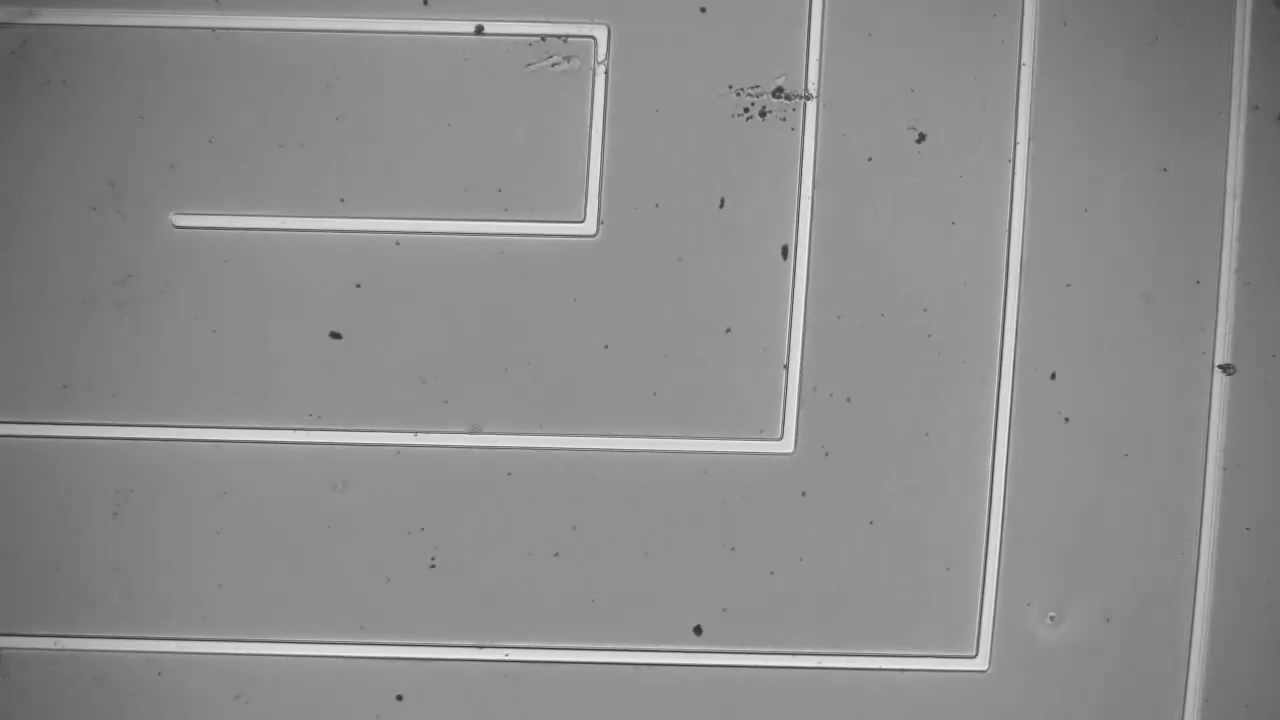stains_enbedded: (1207, 355, 1241, 392), (465, 9, 497, 44)
